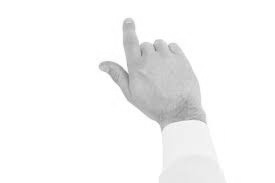pointing_gesture: (96, 17, 215, 118)
